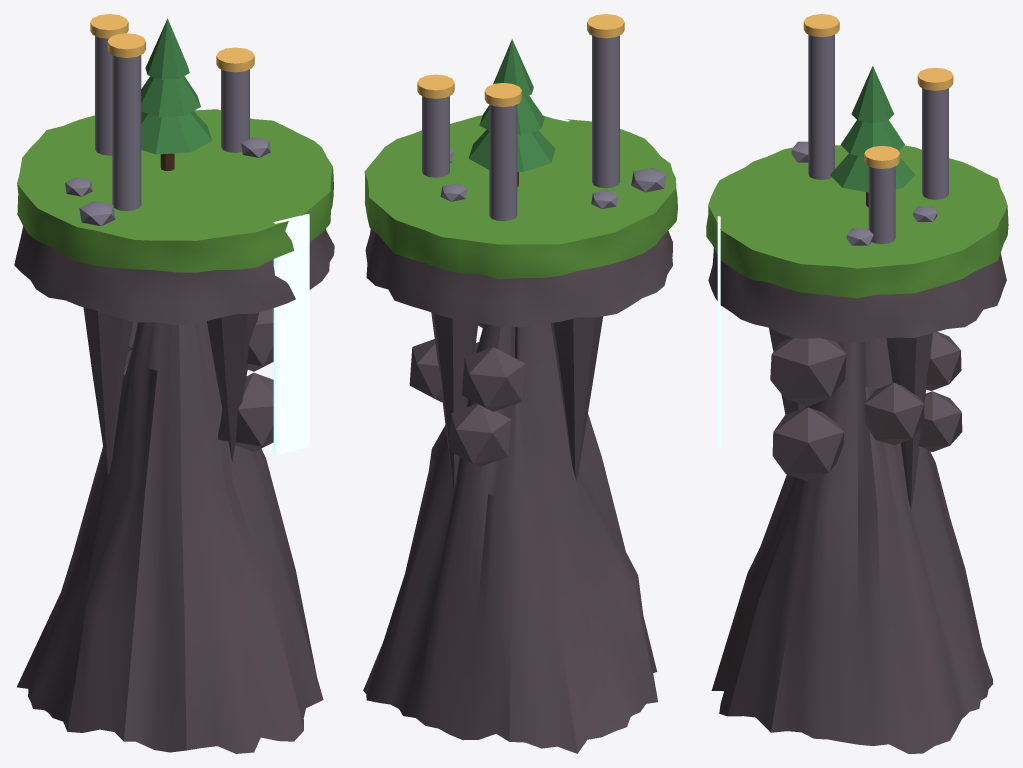
Rendered from island3.glb.
3 renders of one model, left to right at view 1: azimuth 30°, elevation 25°; view 2: azimuth 150°, elevation 25°; view 3: azimuth 270°, elevation 25°, orthographic. The views are drawn at different scales.
Visible parts, largest first — view 1: Island3; view 2: Island3; view 3: Island3.
Boxes of the visible parts, left/top/right/bottom form: Island3: left=14, top=14, right=334, bottom=753; Island3: left=363, top=14, right=677, bottom=753; Island3: left=706, top=14, right=1008, bottom=753.
Size of the model in its own units: 2.01 by 4.76 by 2.03.
